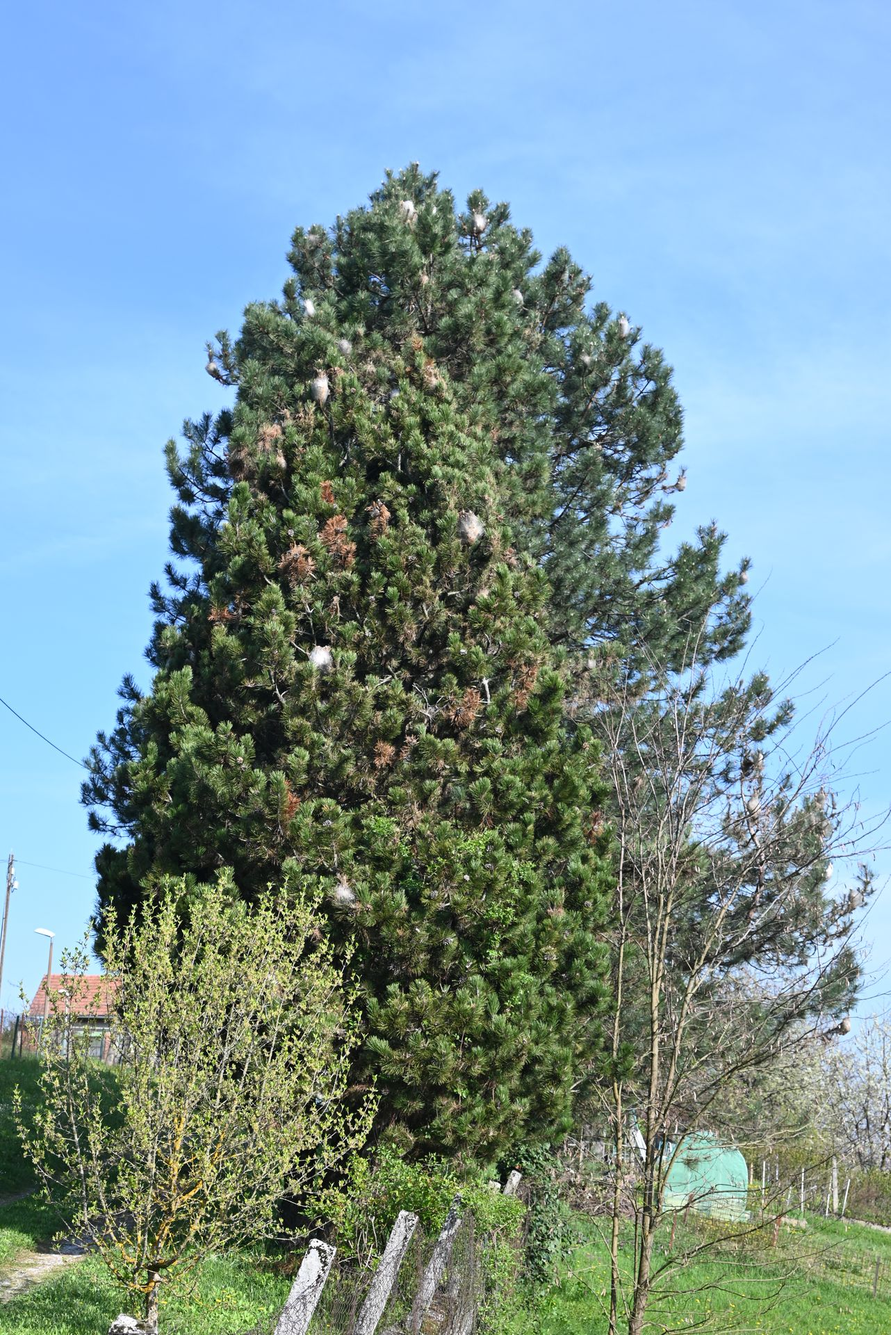thaumatopoea pityocampa jajno gnijezdo: (460, 507, 489, 546), (328, 878, 359, 908), (741, 788, 770, 818), (307, 643, 332, 671), (572, 348, 599, 372), (310, 375, 332, 401), (465, 208, 489, 231), (300, 289, 315, 323), (413, 270, 435, 292), (399, 194, 418, 218), (614, 318, 633, 341), (580, 653, 599, 673), (508, 286, 526, 306)
